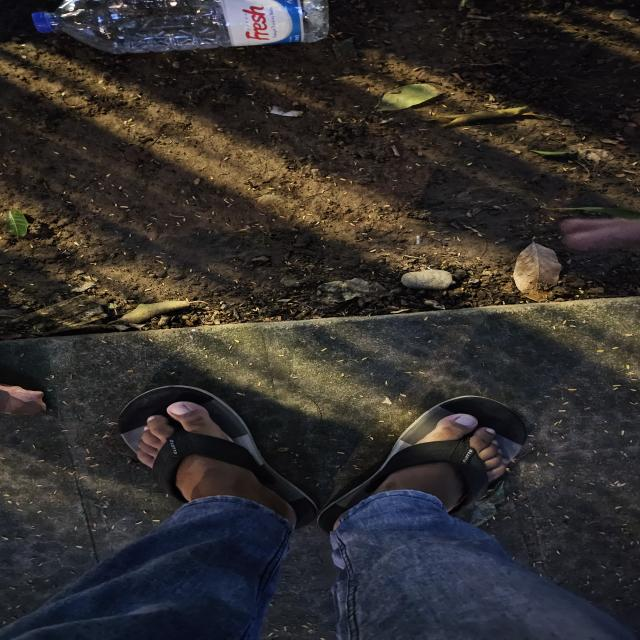artificial_container: (26, 1, 323, 58)
